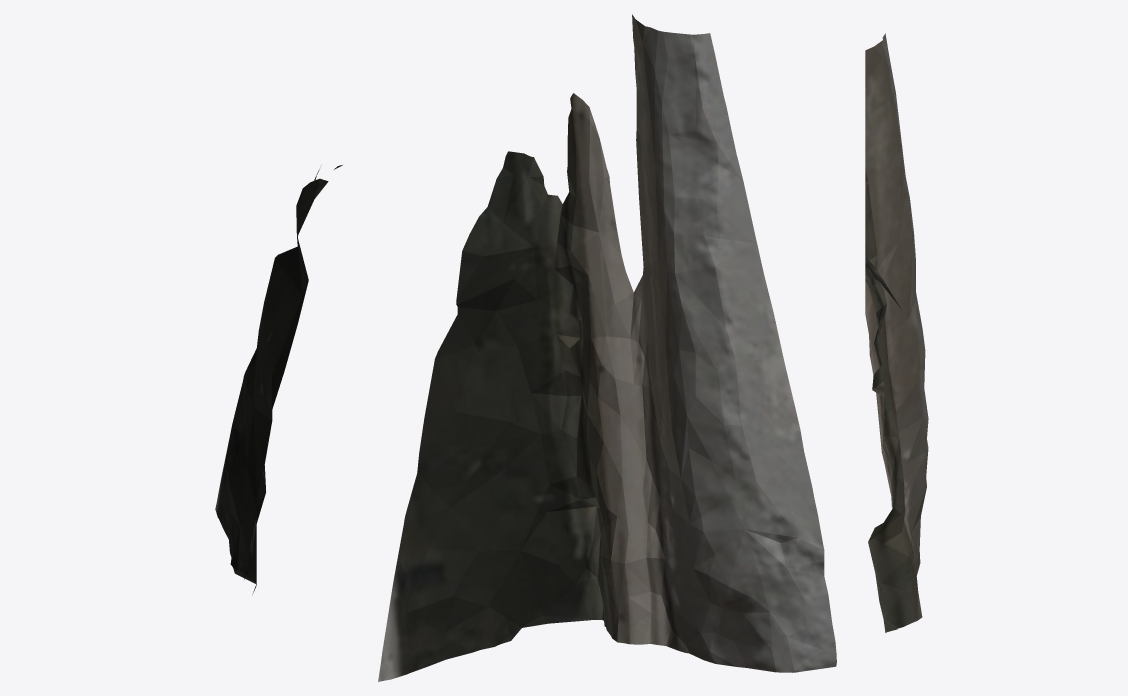
The picture shows the model from 3 angles, left to right: view 1: azimuth 30°, elevation 25°; view 2: azimuth 150°, elevation 25°; view 3: azimuth 270°, elevation 25°; orthographic projection. The views are drawn at different scales.
Size of the model in its own units: 0.4777 by 0.8374 by 0.3279.
2 materials, 2 textured.
